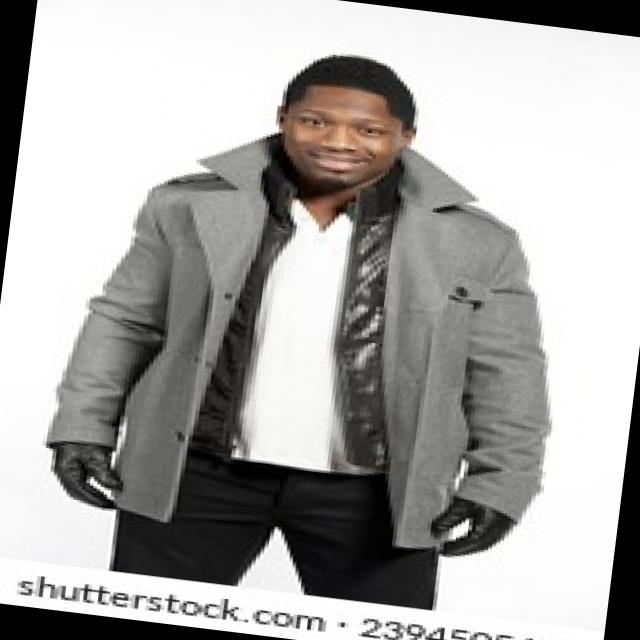Jacket: (31, 132, 599, 594)
